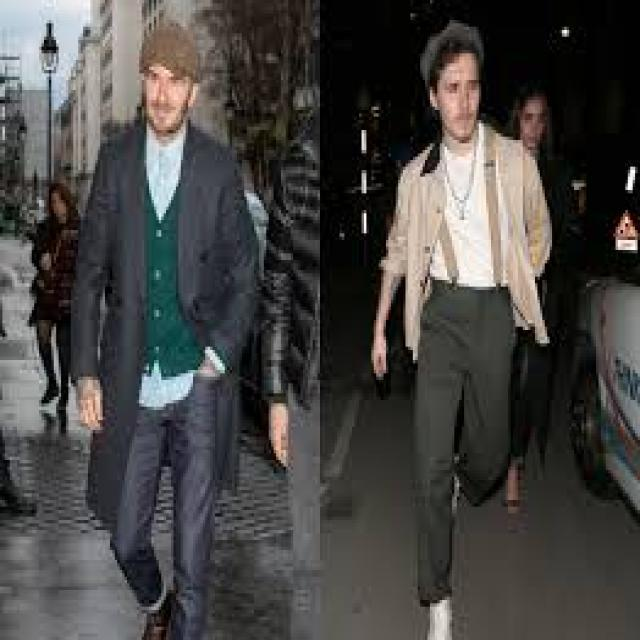cap: (137, 27, 203, 133)
head: (423, 27, 491, 140), (516, 93, 550, 147)
